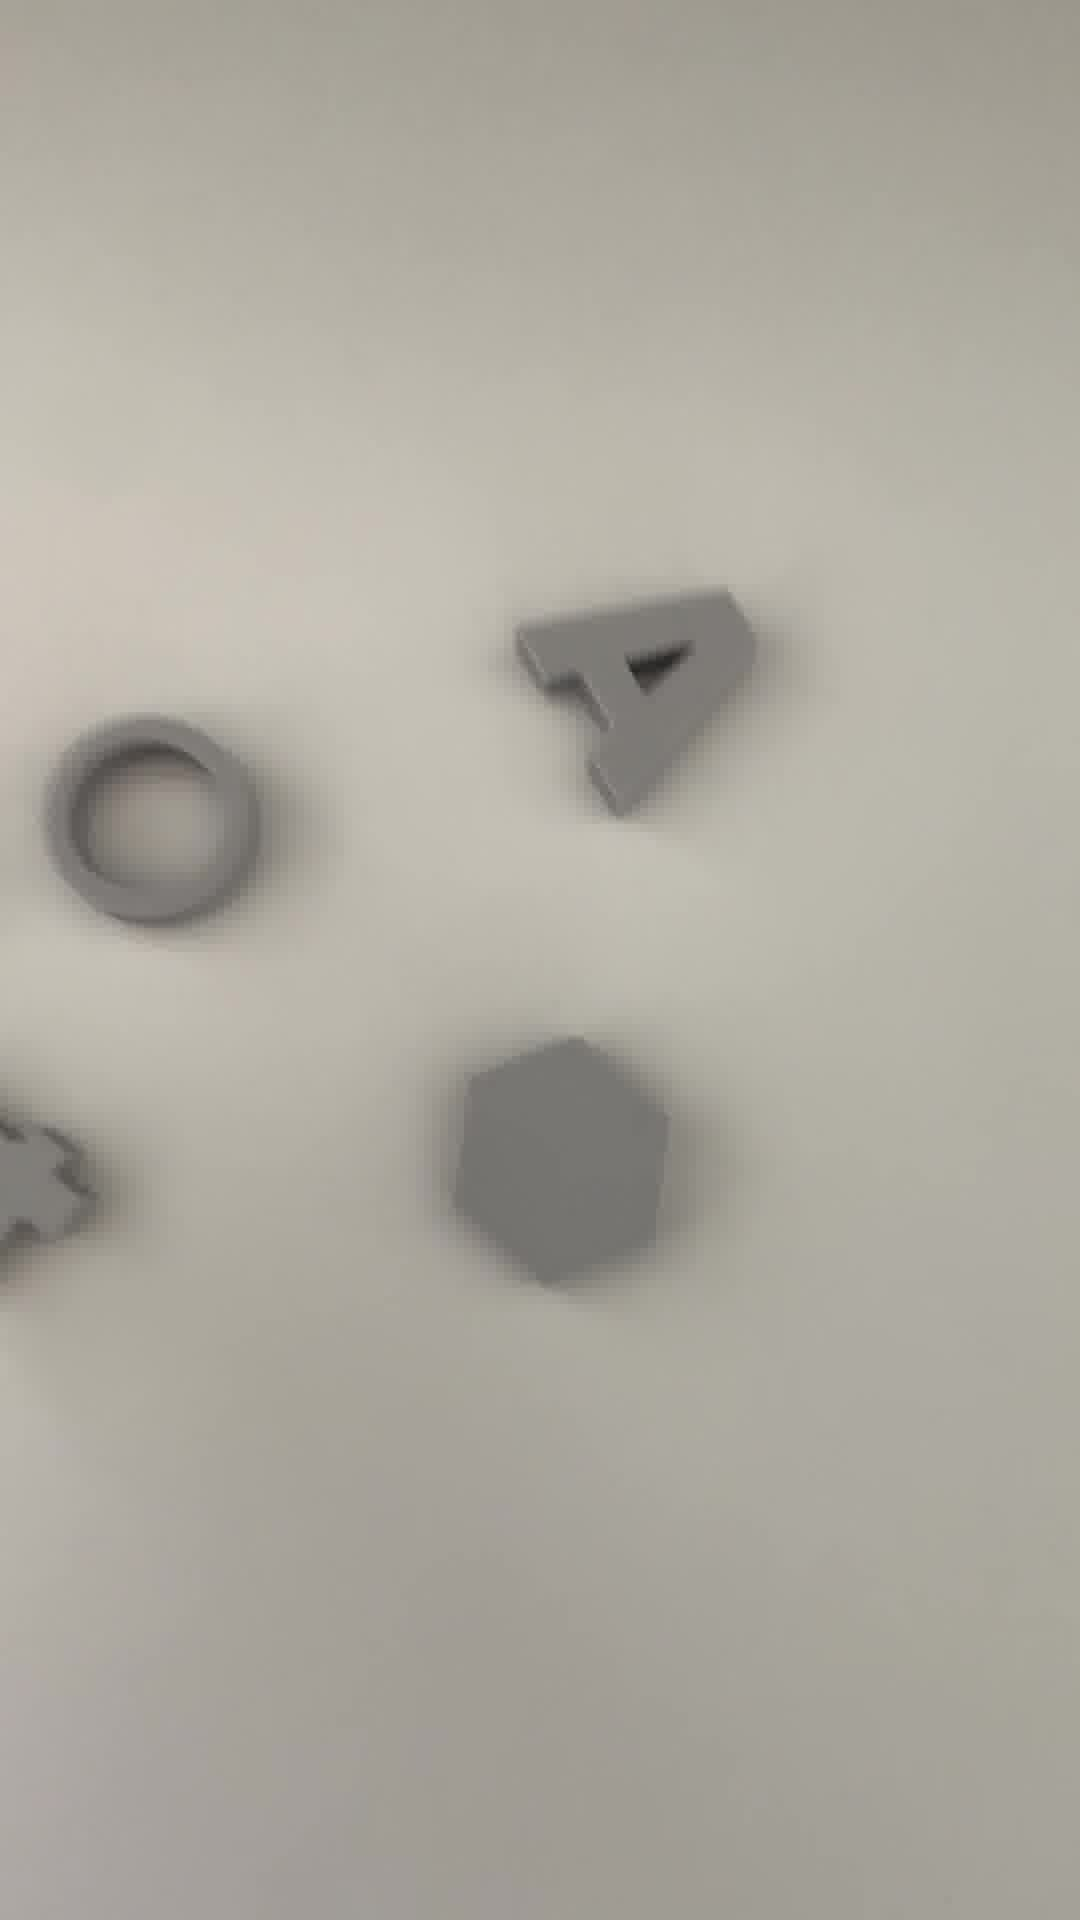Gray A-letter: (513, 582, 774, 800)
Gray hexagon: (433, 1038, 688, 1303)
Gray ring: (41, 713, 272, 924)
